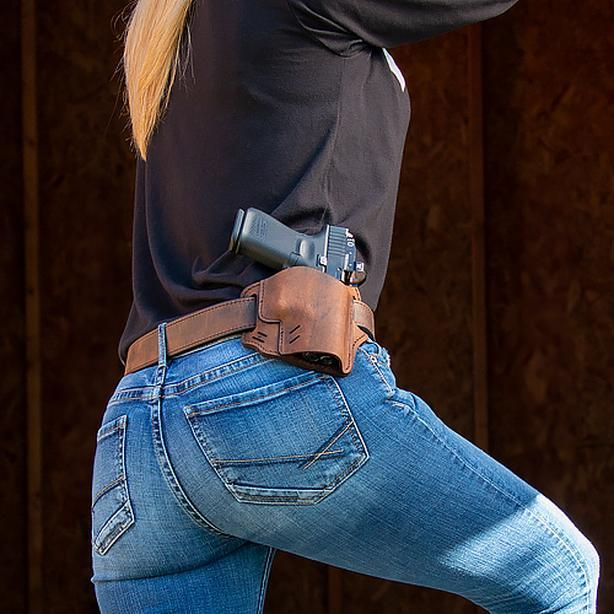Firearm: (231, 193, 376, 379)
